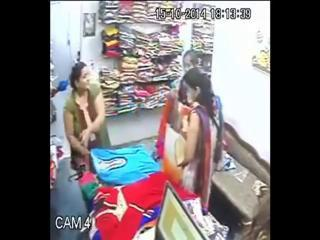Normal: (156, 68, 222, 214), (64, 62, 110, 176)
